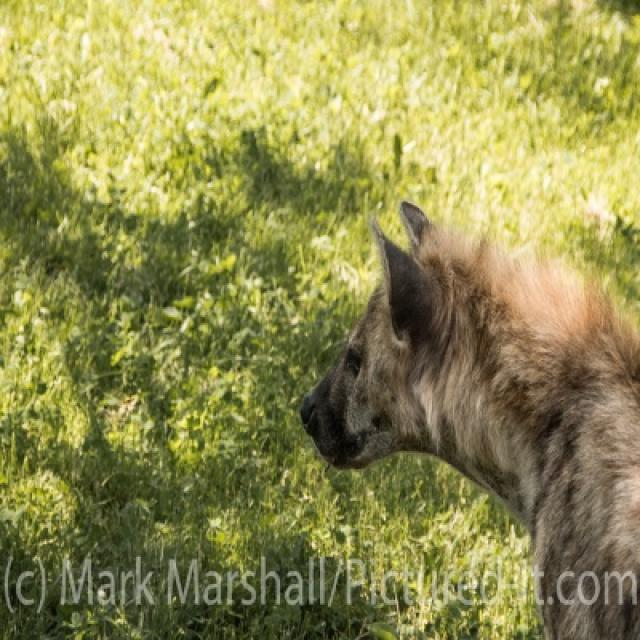hyena: (301, 202, 638, 638)
